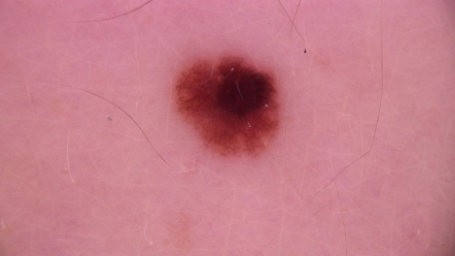nevus: (177, 57, 276, 153)
